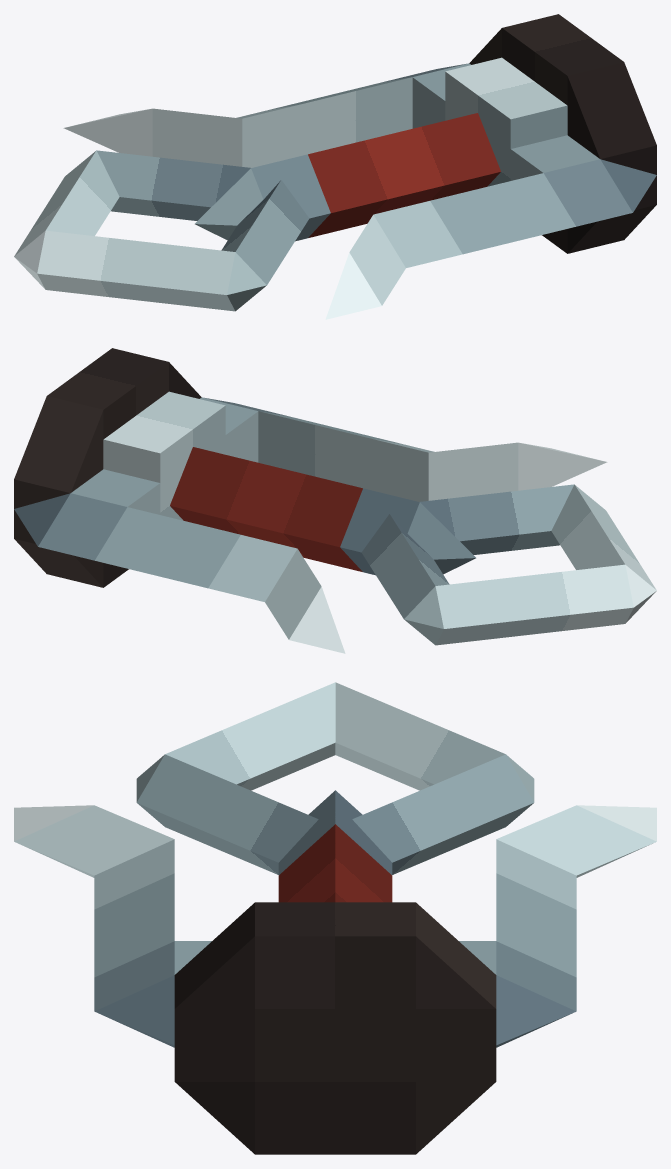
File: signalite_listening_body.obj
The picture shows the model from 3 angles, top to bottom: view 1: azimuth 30°, elevation 25°; view 2: azimuth 150°, elevation 25°; view 3: azimuth 270°, elevation 25°; orthographic projection. The views are drawn at different scales.
Visible parts, largest first — view 1: LISTENING_BODY_Cube.007; view 2: LISTENING_BODY_Cube.007; view 3: LISTENING_BODY_Cube.007.
Part boxes in pixels (x1,y1,x2,y2): LISTENING_BODY_Cube.007: [14, 14, 656, 319]; LISTENING_BODY_Cube.007: [14, 348, 656, 653]; LISTENING_BODY_Cube.007: [14, 682, 656, 1154].
Size of the model in its own units: 0.6234 by 0.1875 by 0.5.
